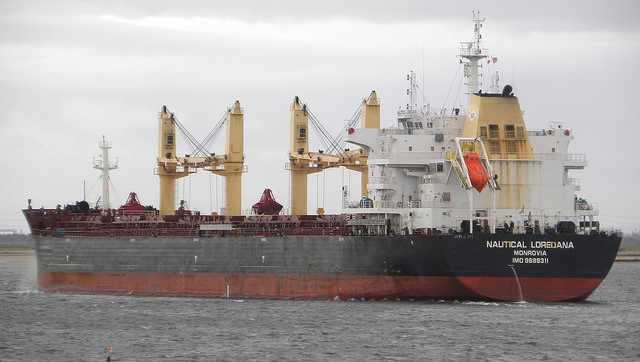bulk carrier: (24, 12, 624, 305)
